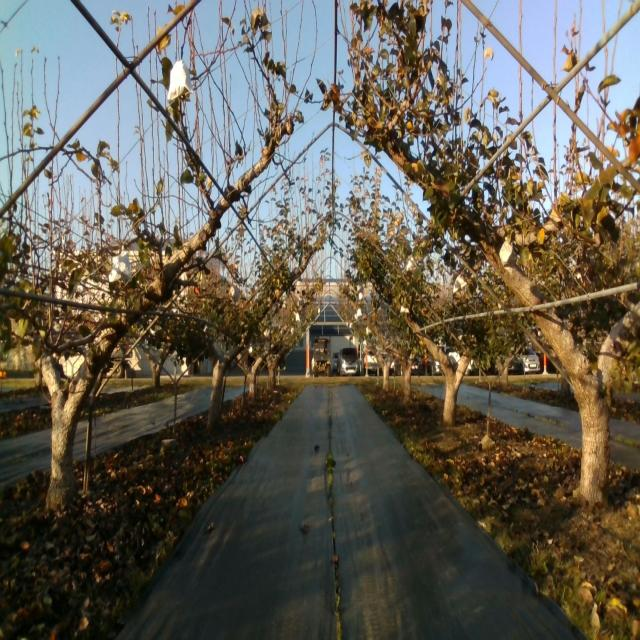pearbags: (166, 59, 193, 102), (108, 241, 132, 284), (499, 237, 515, 276), (453, 274, 467, 297), (406, 255, 419, 272)
